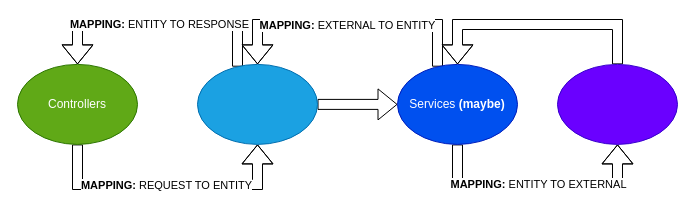
This 695x208 diagram has some shape labels left out. Here are the shapes that lost their labels. From the top down, the centre of each, then its label:
At pixel 257 103: "Commands".
At pixel 617 103: "Repositories".
